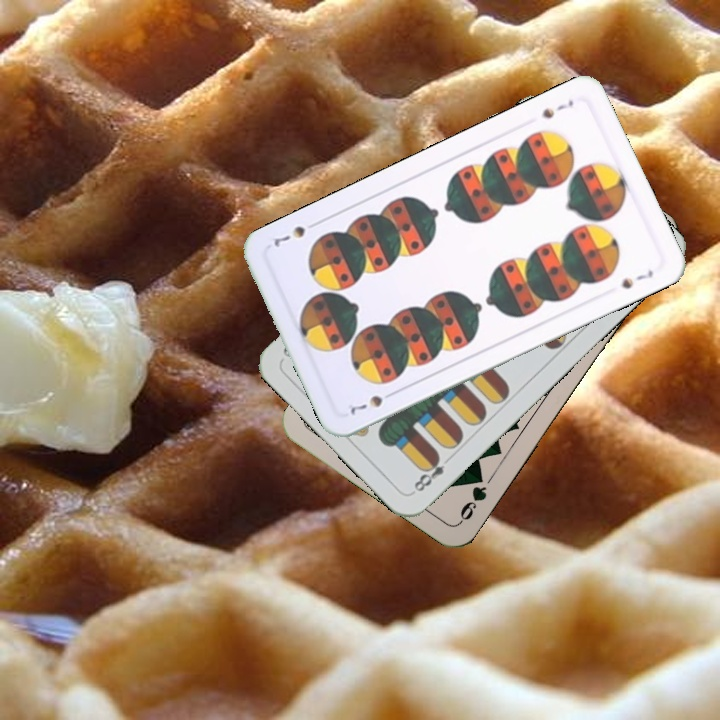E8: (408, 450, 456, 496)
G9: (455, 468, 490, 526)
S7: (346, 387, 399, 417), (537, 95, 576, 122)
